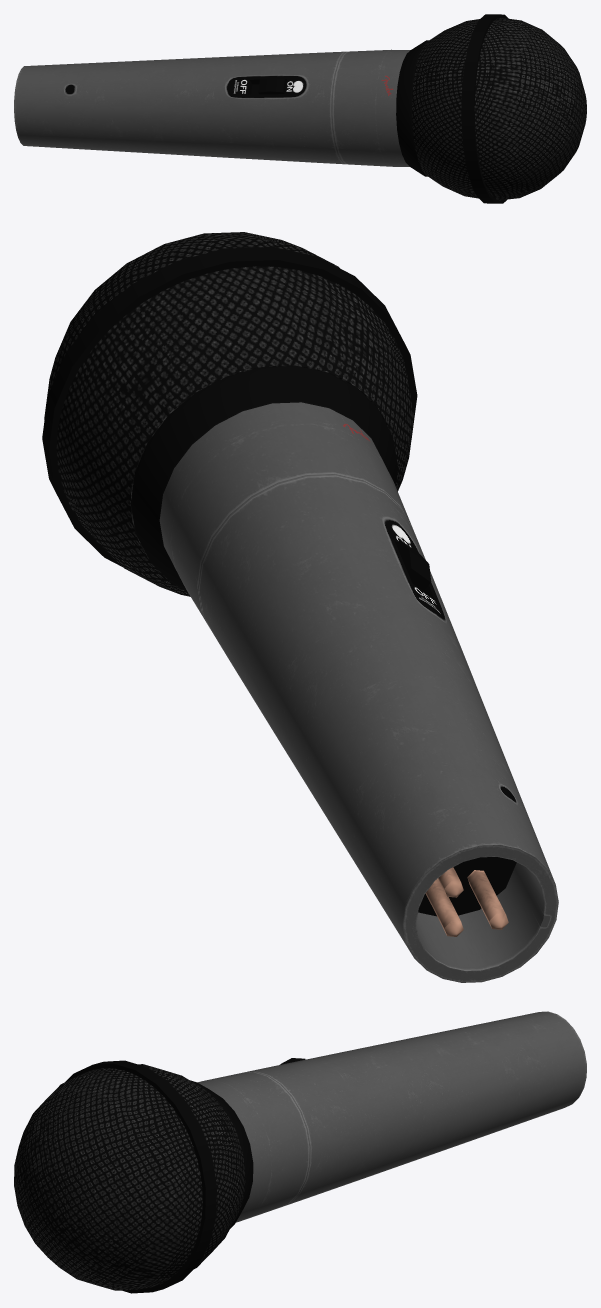
The model's file is microphone.glb.
3 views of the same model, one above another, from view 1: azimuth 30°, elevation 25°; view 2: azimuth 150°, elevation 25°; view 3: azimuth 270°, elevation 25° (orthographic). The views are drawn at different scales.
Visible parts, largest first — view 1: Body_low, Weave_low, Rings_low, Switch_low; view 2: Body_low, Weave_low, Rings_low, Prongs_low; view 3: Body_low, Weave_low, Rings_low.
Boxes of the visible parts, x1,y1,x2,y2 form: Body_low: [14, 49, 410, 166]; Weave_low: [412, 17, 586, 200]; Rings_low: [396, 14, 508, 203]; Switch_low: [258, 78, 286, 94]; Body_low: [159, 402, 558, 982]; Weave_low: [44, 232, 414, 596]; Rings_low: [42, 247, 516, 916]; Prongs_low: [425, 867, 508, 936]; Body_low: [197, 1011, 586, 1222]; Weave_low: [14, 1064, 245, 1290]; Rings_low: [65, 1060, 253, 1293].
Size of the model in its own units: 2.9 by 1.19 by 2.9.
1 material, 1 textured.
